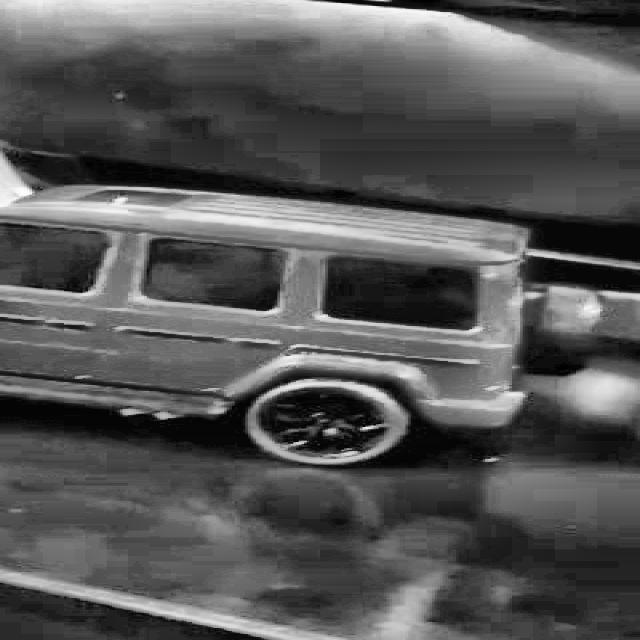light_vehicle: (0, 177, 539, 471)
